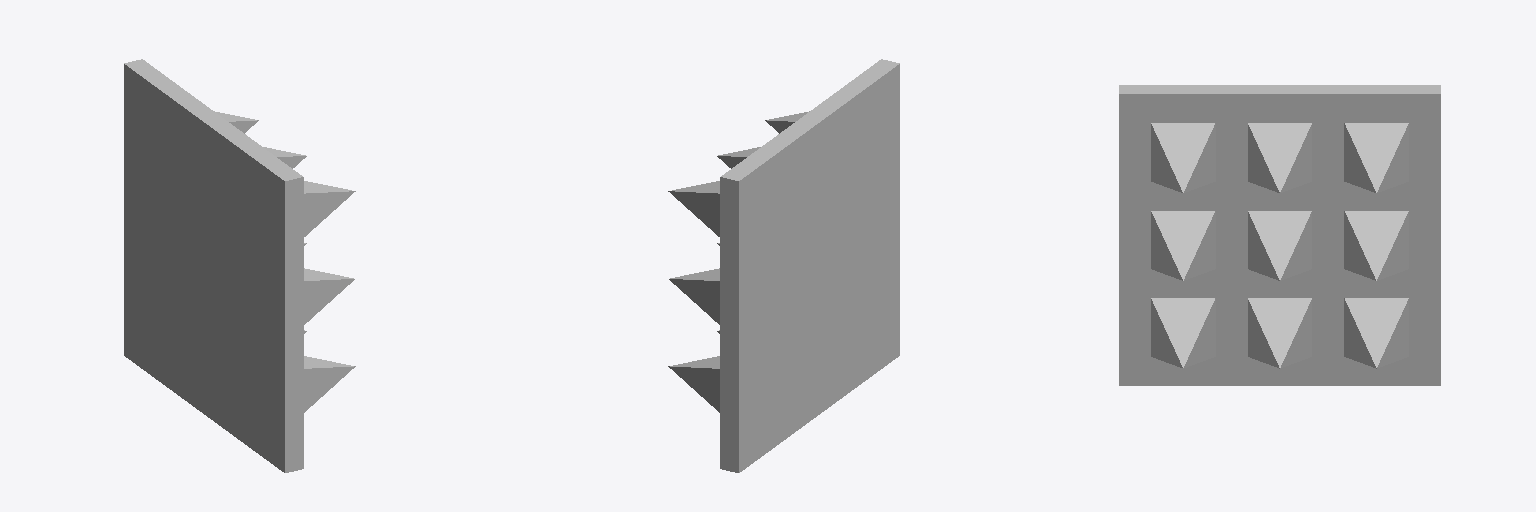
The model's file is walltrap.obj.
3 renders of one model, left to right at view 1: azimuth 30°, elevation 25°; view 2: azimuth 150°, elevation 25°; view 3: azimuth 270°, elevation 25°, orthographic.
Visible parts, largest first — view 1: pCube1; view 2: pCube1; view 3: pCube1.
Boxes of the visible parts, x1,y1,x2,y2 form: pCube1: [124, 59, 355, 472]; pCube1: [668, 59, 899, 472]; pCube1: [1119, 85, 1440, 385].
Bounding box in the file's own units: 1.11 × 3 × 3.